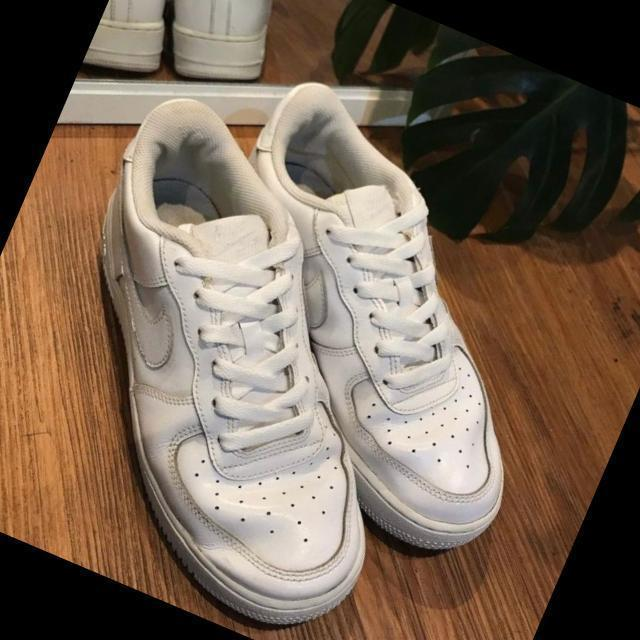nike fake air force: (0, 70, 513, 640), (130, 71, 625, 578)
